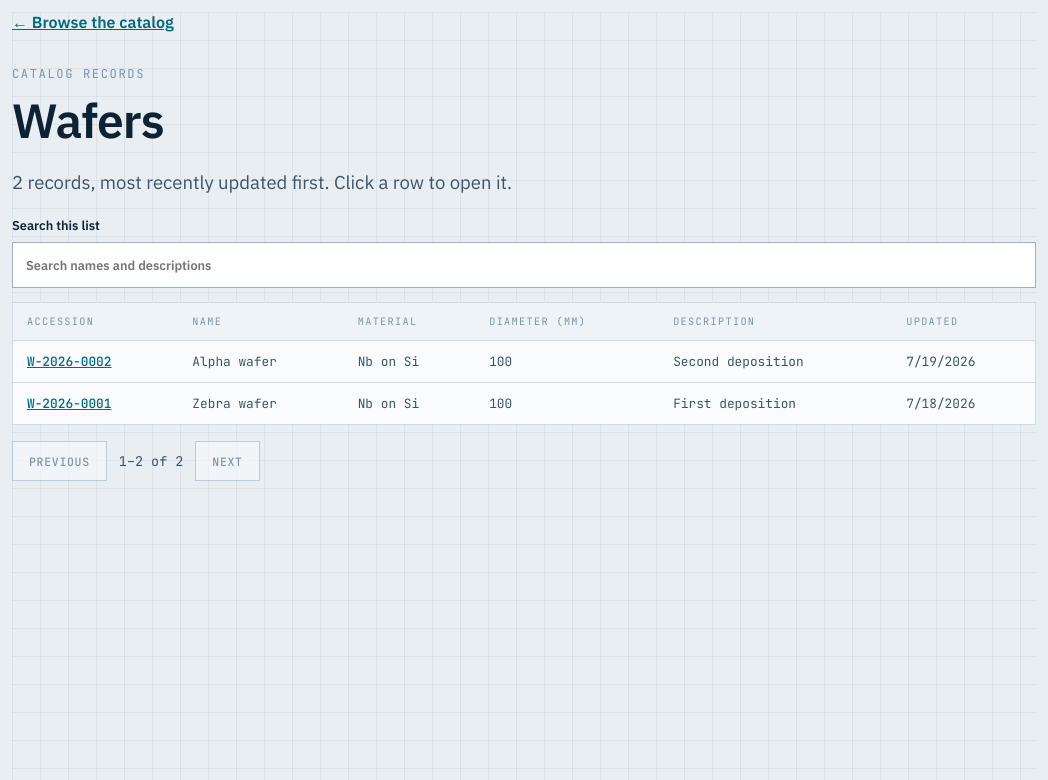
BrowseListPage › debounces the search box into the server q parameter
The width and height of the screenshot is (1048, 780).
Expected: the link "W-2026-0001" is shown, [27, 395, 112, 412]
Step 1. Type "First" into the search field labelled "Search this list" → (524, 265), box [12, 242, 1036, 288]
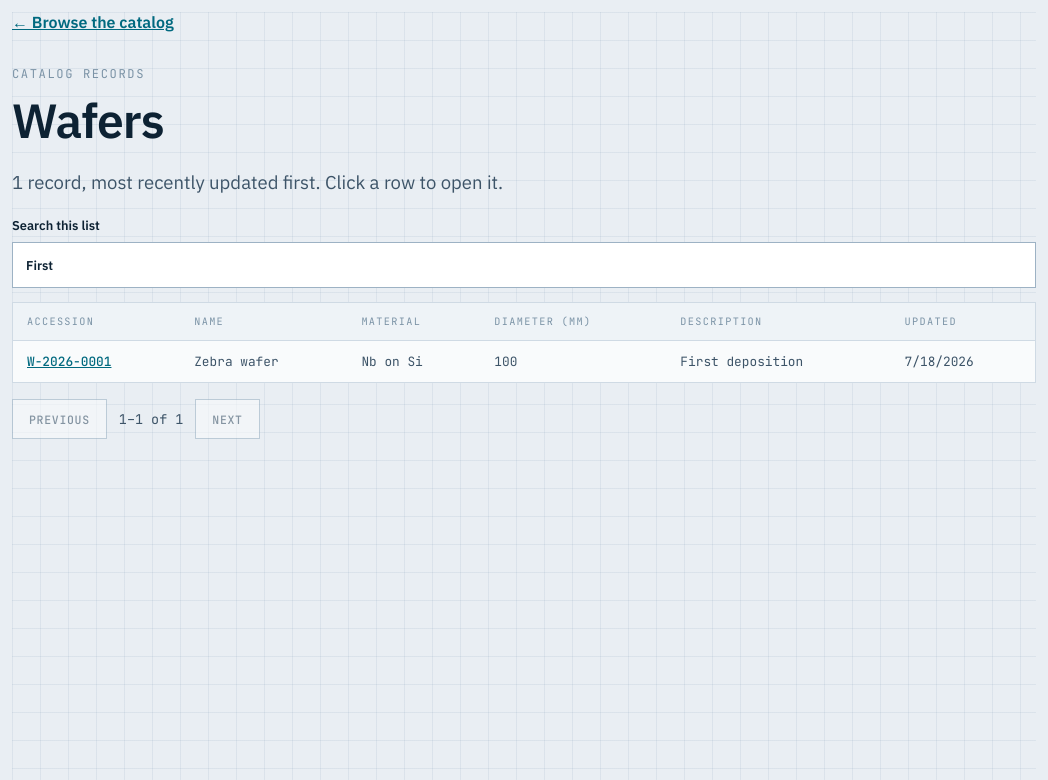
Now the text "1–1 of 1" is shown, box [119, 410, 183, 428]
